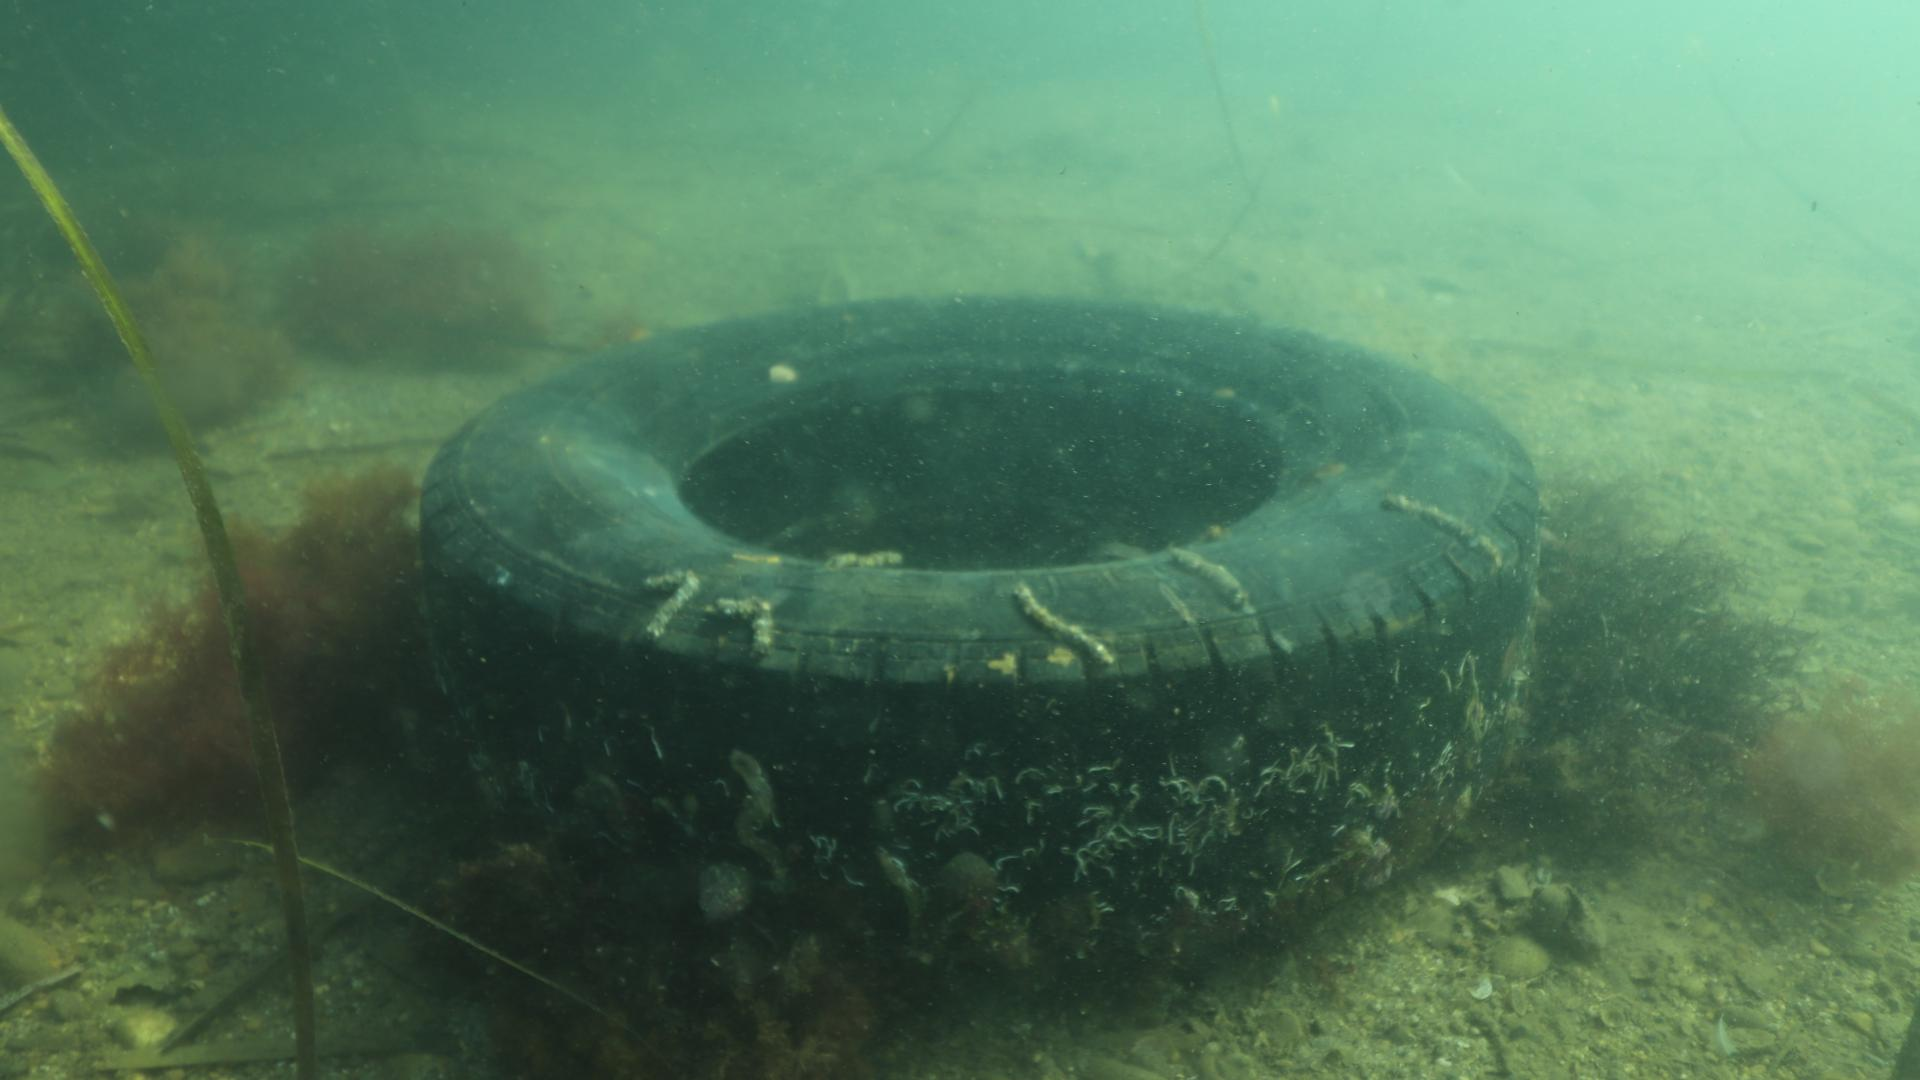tire: (419, 291, 1539, 988)
